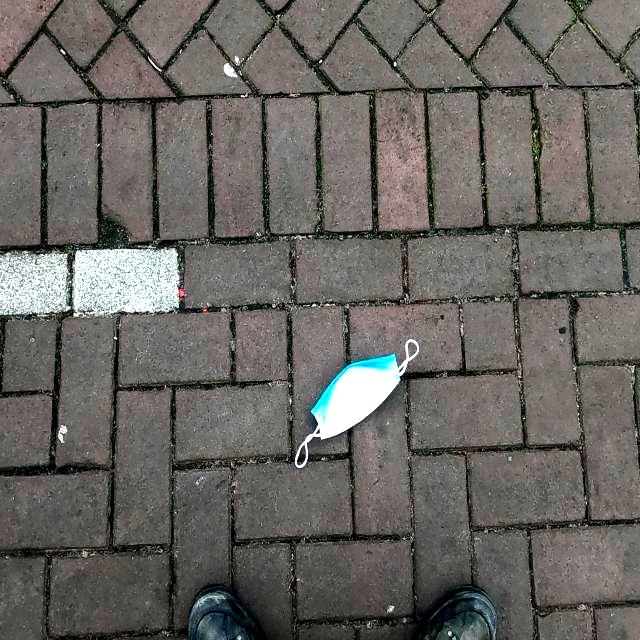Mask: (292, 337, 420, 471)
